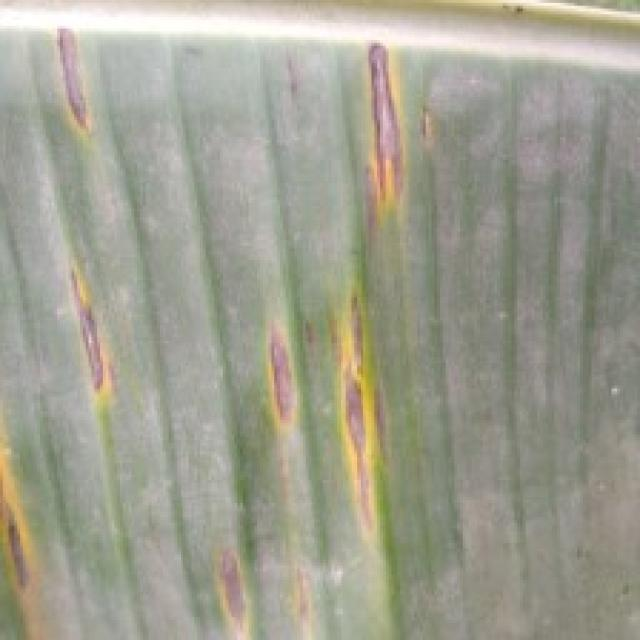Early_leaf_spot: (299, 244, 397, 554), (331, 25, 439, 225), (38, 248, 115, 412), (0, 422, 57, 637), (238, 290, 315, 430), (39, 10, 100, 150), (196, 528, 262, 636)
